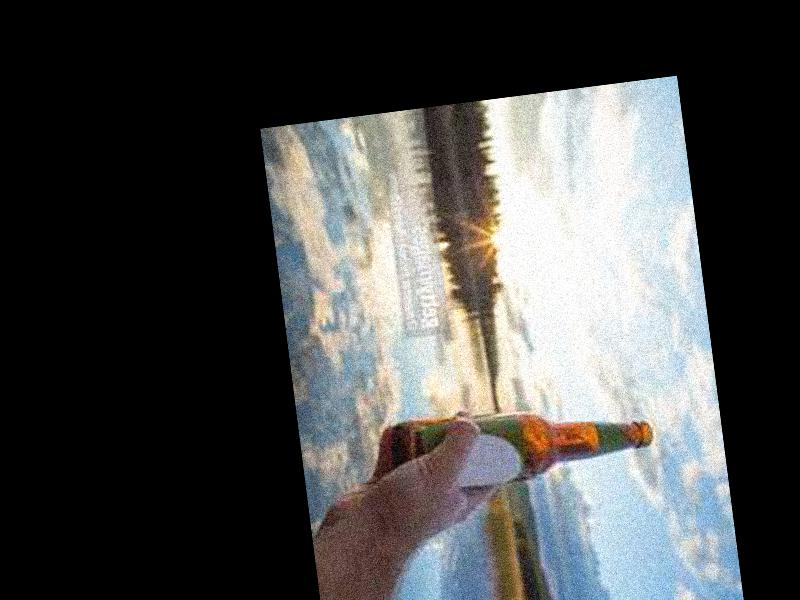Beer: (391, 386, 659, 498)
